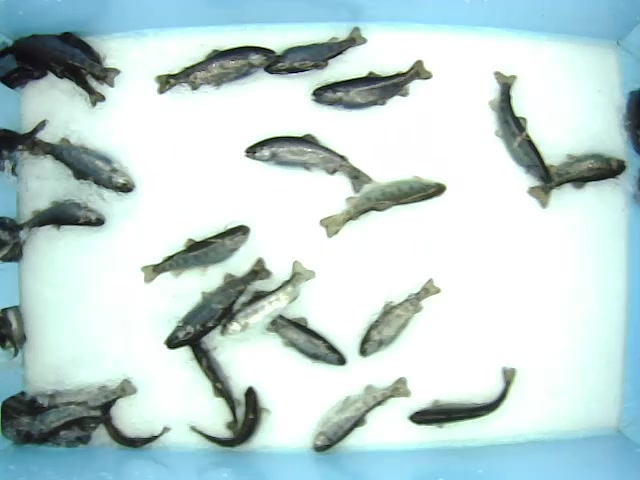fish: (160, 255, 273, 351), (242, 131, 375, 197), (318, 173, 447, 238), (217, 258, 317, 339), (309, 376, 414, 453), (486, 68, 551, 185), (407, 365, 516, 429), (356, 277, 440, 359), (153, 39, 275, 95), (25, 134, 136, 195), (309, 58, 433, 109), (144, 227, 248, 285), (524, 152, 627, 210), (185, 332, 240, 431), (262, 25, 367, 76), (188, 385, 270, 449), (261, 311, 348, 367), (101, 400, 170, 449), (13, 196, 105, 232)
